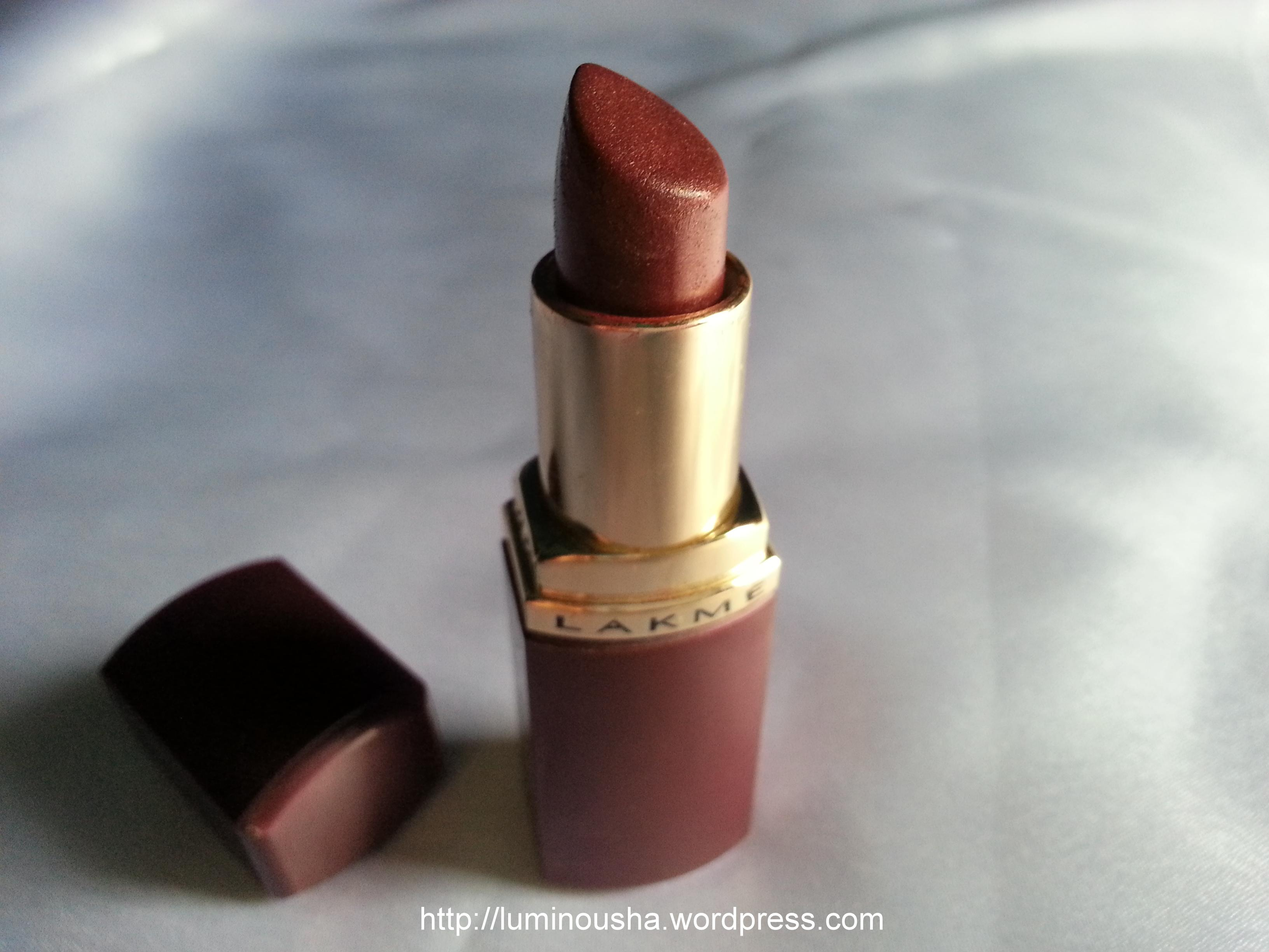lipstick: (445, 17, 807, 895)
